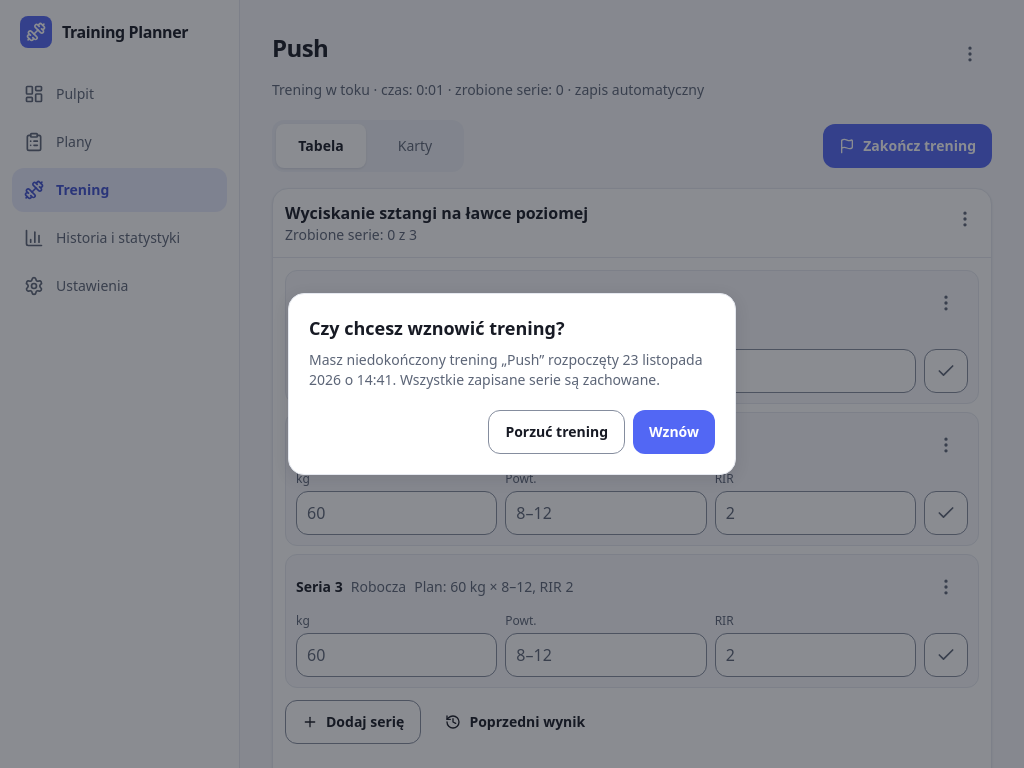
Test: workout › abandoning from the resume prompt needs a confirmation and frees the app for a new workout
What coordinates should you click on to do the following:
click the button "Porzuć trening"
I would click on:
 (557, 432)
Its box is [488,410,625,454].
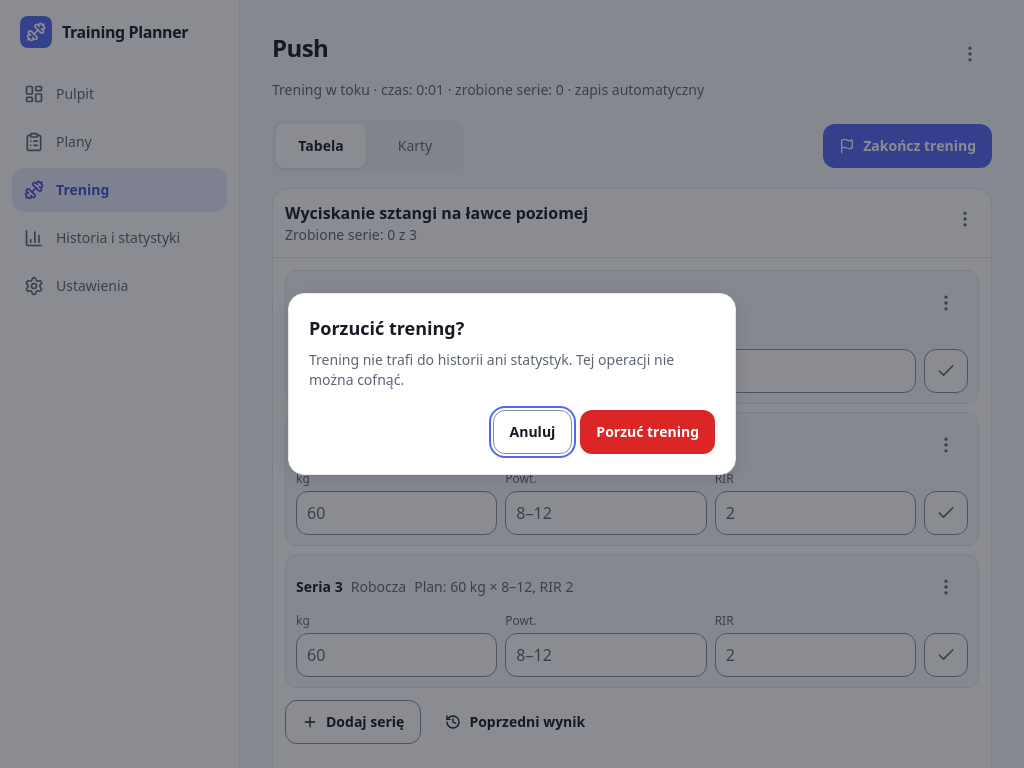
What coordinates should you click on to do the following:
click the button "Porzuć trening"
I would click on:
 (648, 432)
Its box is [580,410,715,454].
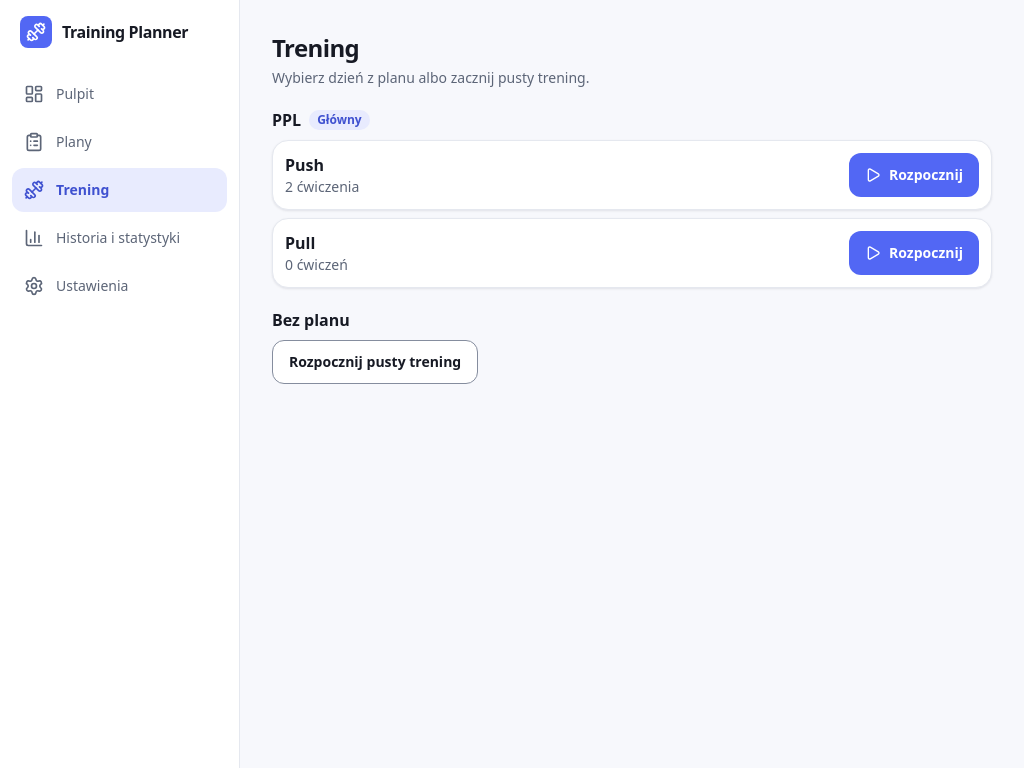
Expected: the button with aria-label "Rozpocznij: Push" is shown, [849,153,979,197]
